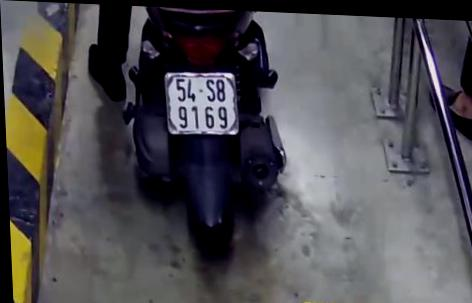License_Plate: (162, 66, 246, 141)
